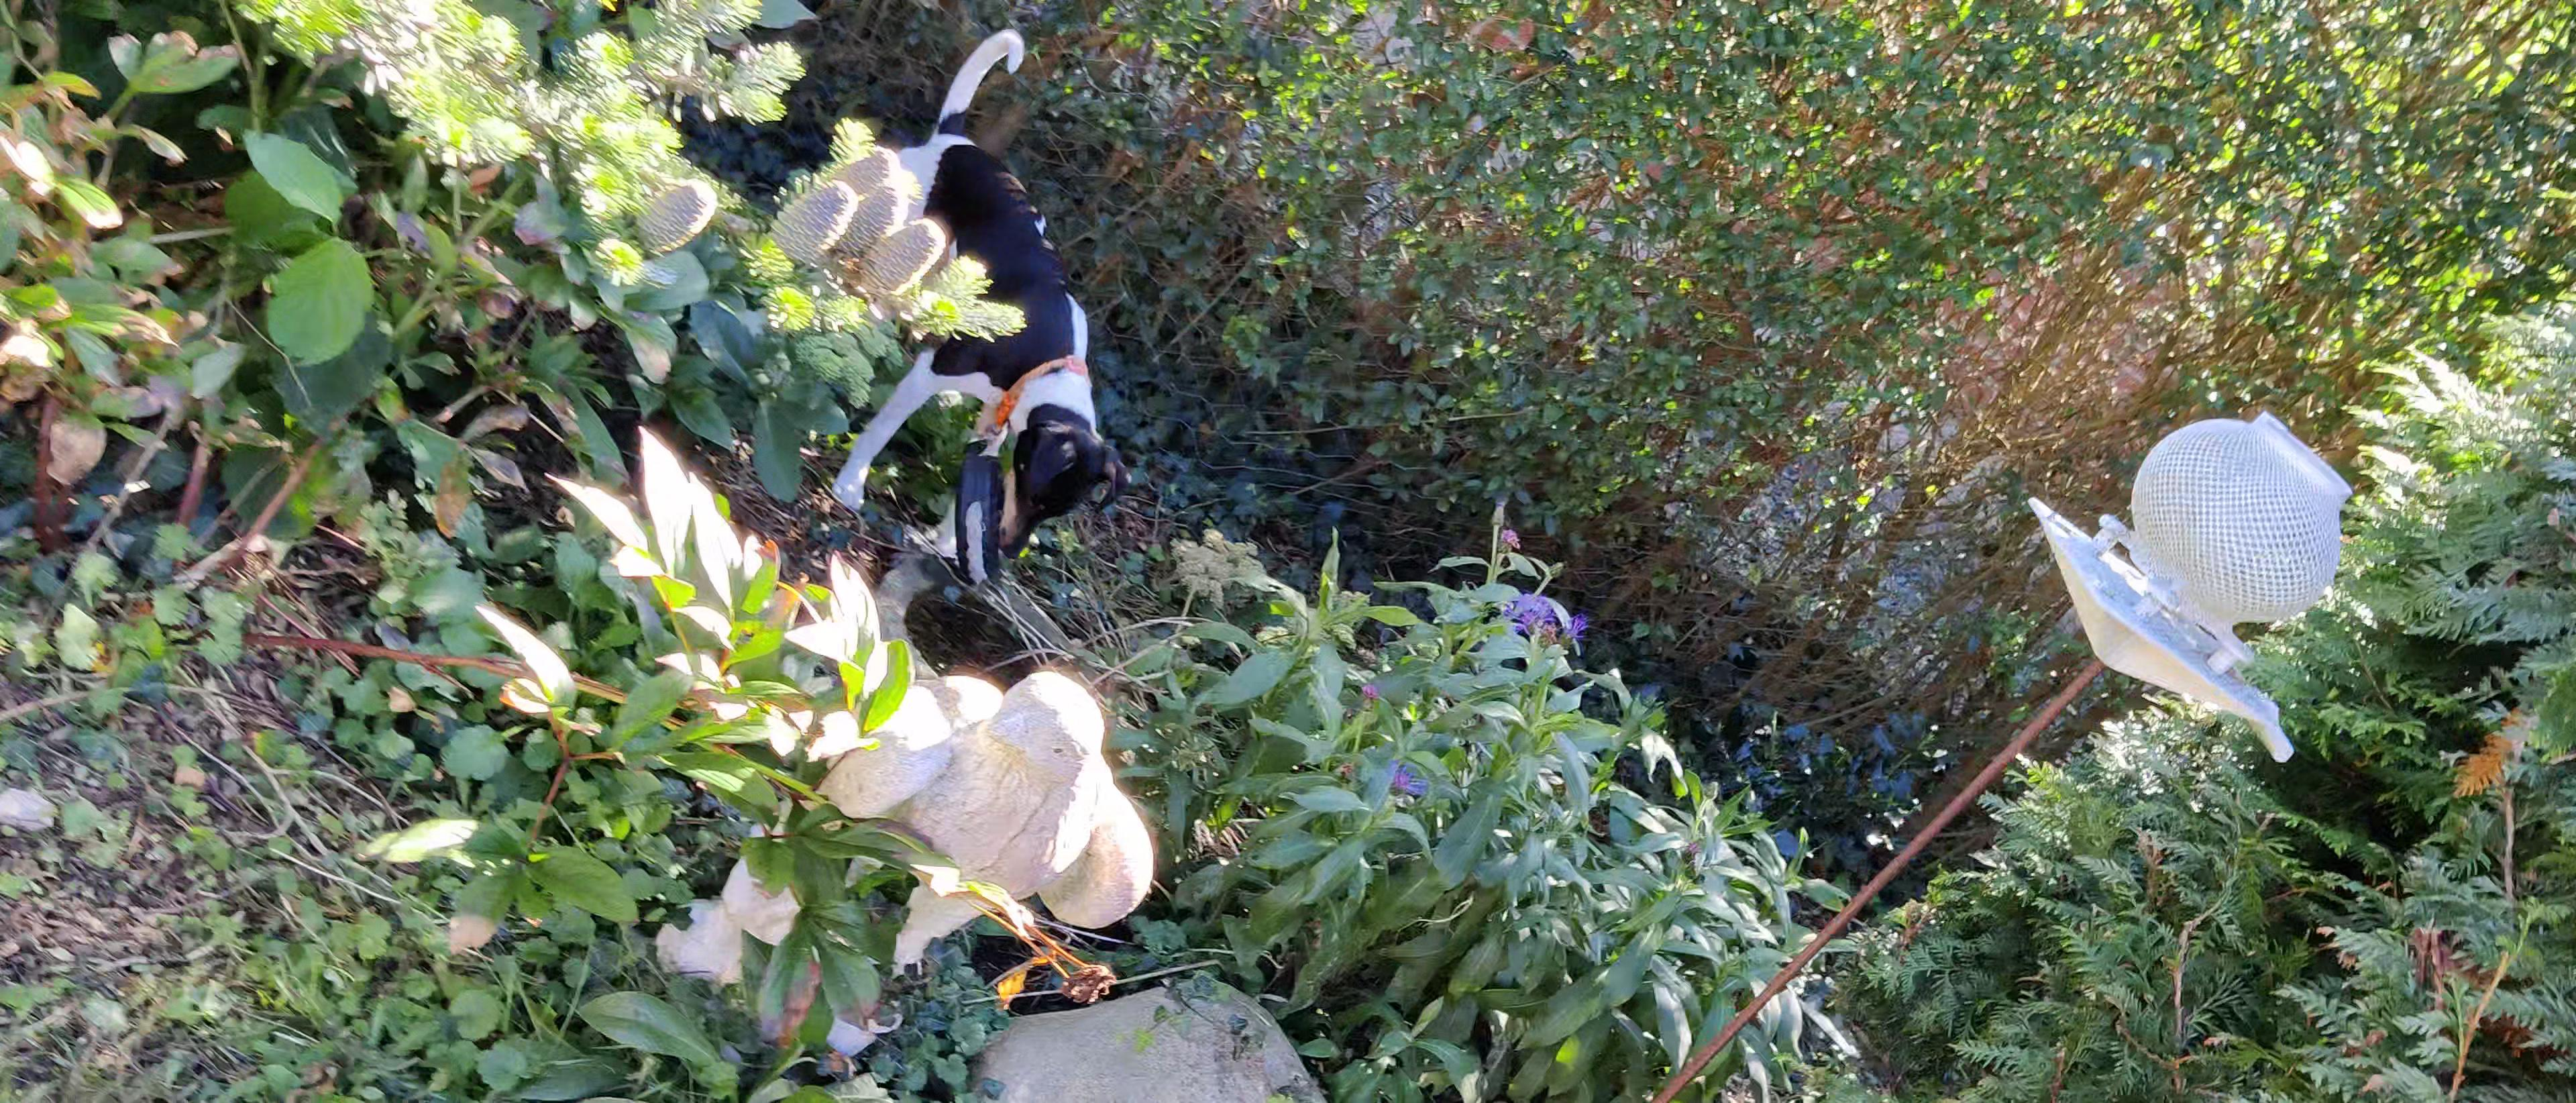Dog: (826, 25, 1132, 559)
